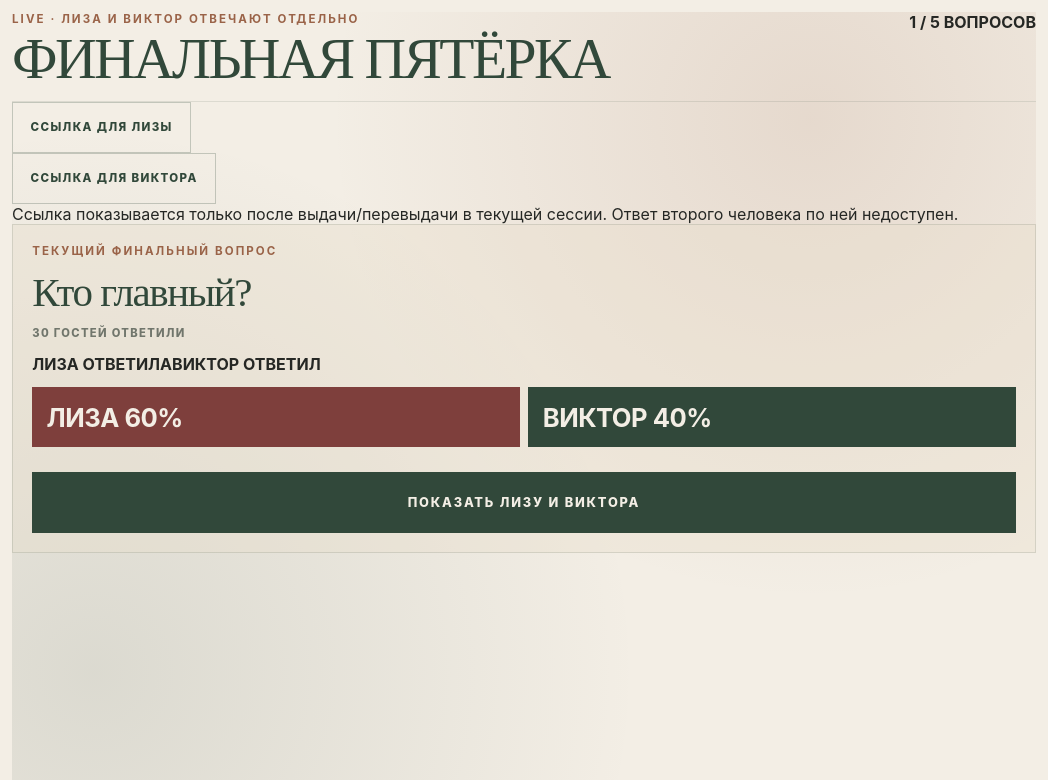
Test: AdminFinalFivePanel › allows the final reveal only after guest results and both private answers exist
The image size is (1048, 780).
expect the text "ЛИЗА 60%" is shown: met, box left=32, top=388, right=520, bottom=447
expect the text "ВИКТОР 40%" is shown: met, box left=528, top=388, right=1016, bottom=447
Click the button "ПОКАЗАТЬ ЛИЗУ И ВИКТОРА" at coordinates (524, 502), box left=32, top=472, right=1016, bottom=533
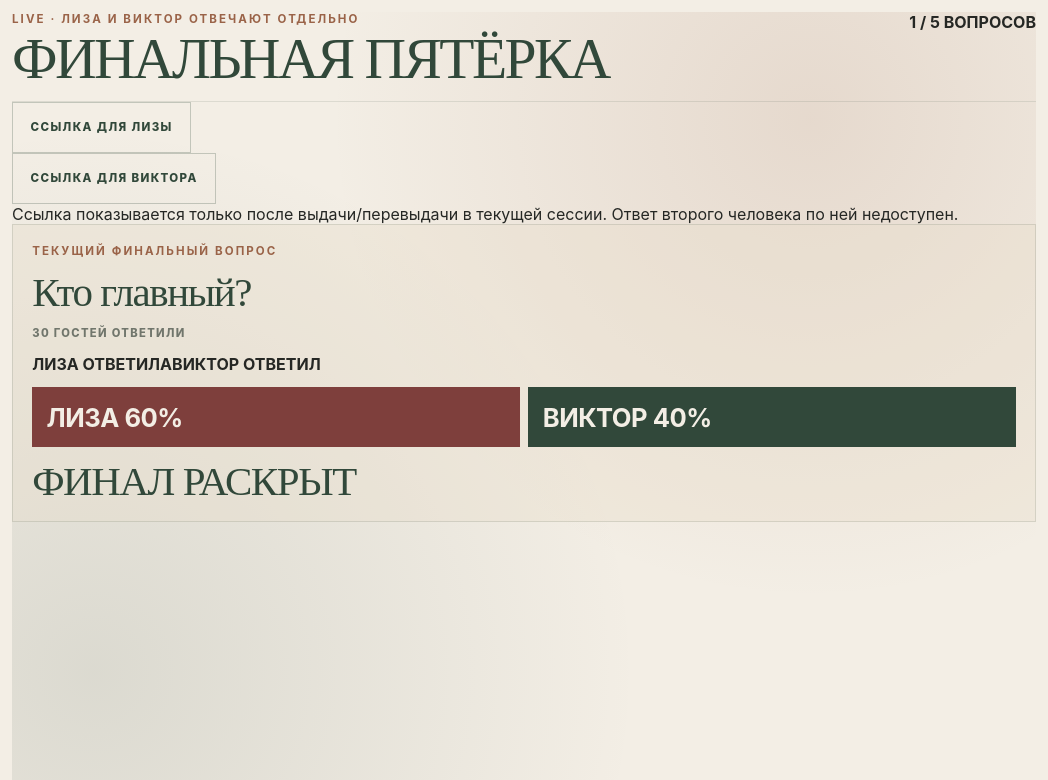
expect the text "ФИНАЛ РАСКРЫТ" is shown: met, box left=32, top=458, right=356, bottom=504
